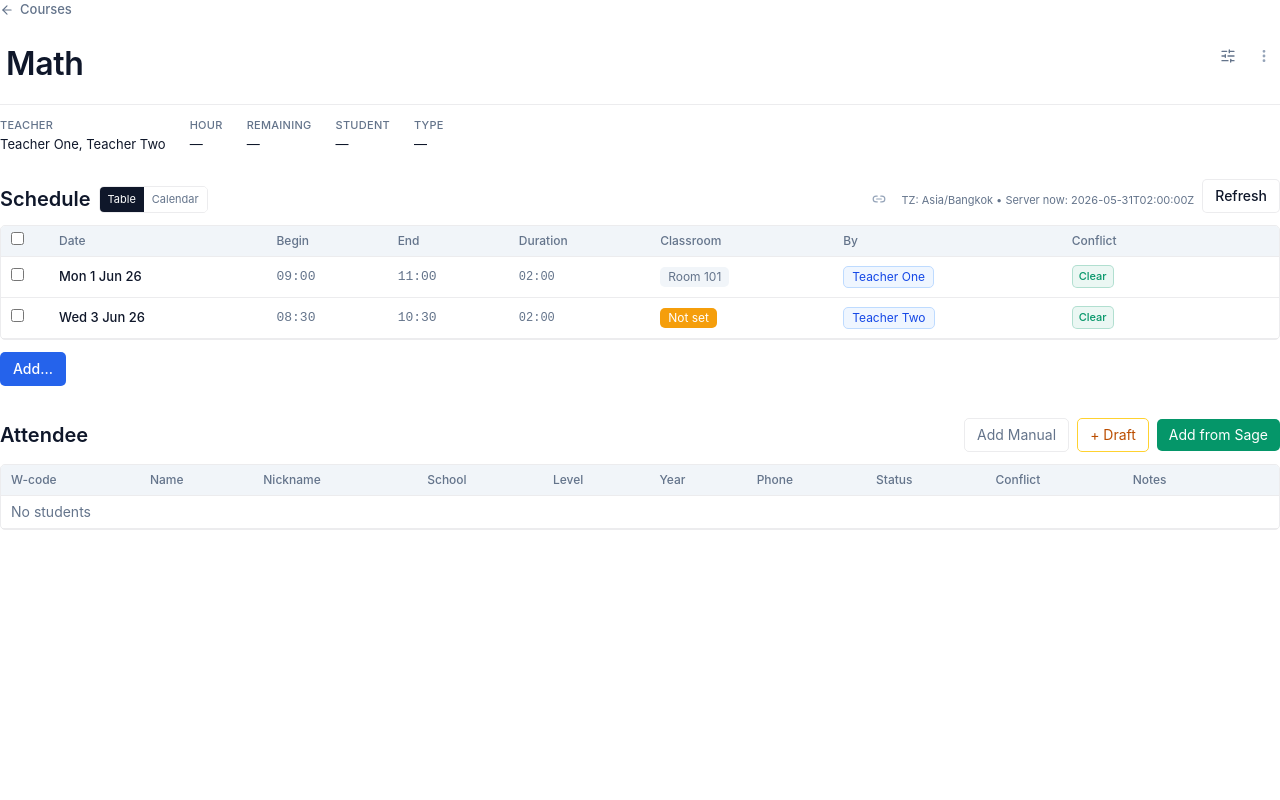
Test: CourseDetail session editing › explains a blocked slot and disables saving until fixed
What coordinates should you click on to do the following:
click the button with aria-label "Edit session Mon 1 Jun 26"
I would click on:
 (100, 276)
Its box is [59, 264, 142, 288].
(page scrolled)
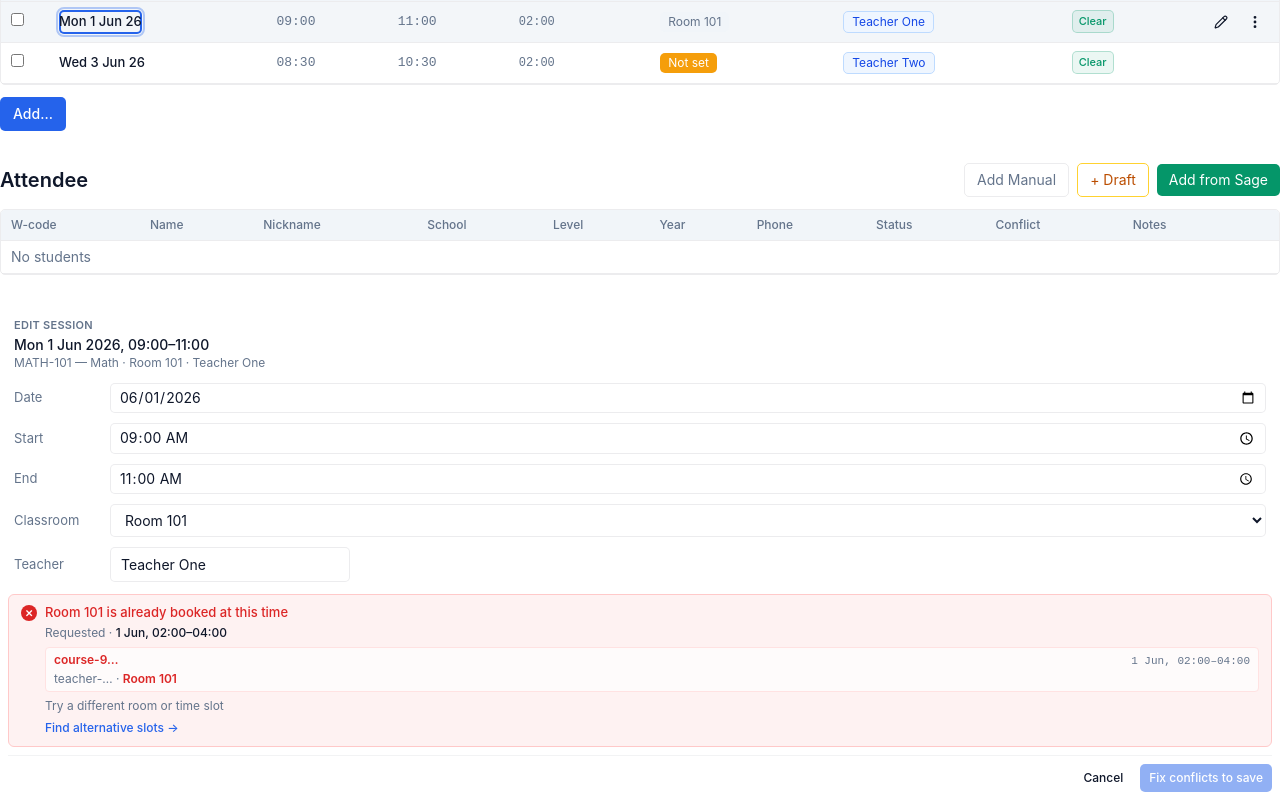
Expected: the text "Room 101 is already booked at this time" is shown, [45, 604, 288, 620]
Expected: the text "Try a different room or time slot" is shown, [45, 698, 224, 713]
Expected: the button "Fix conflicts to save" is disabled, [1140, 764, 1272, 792]
